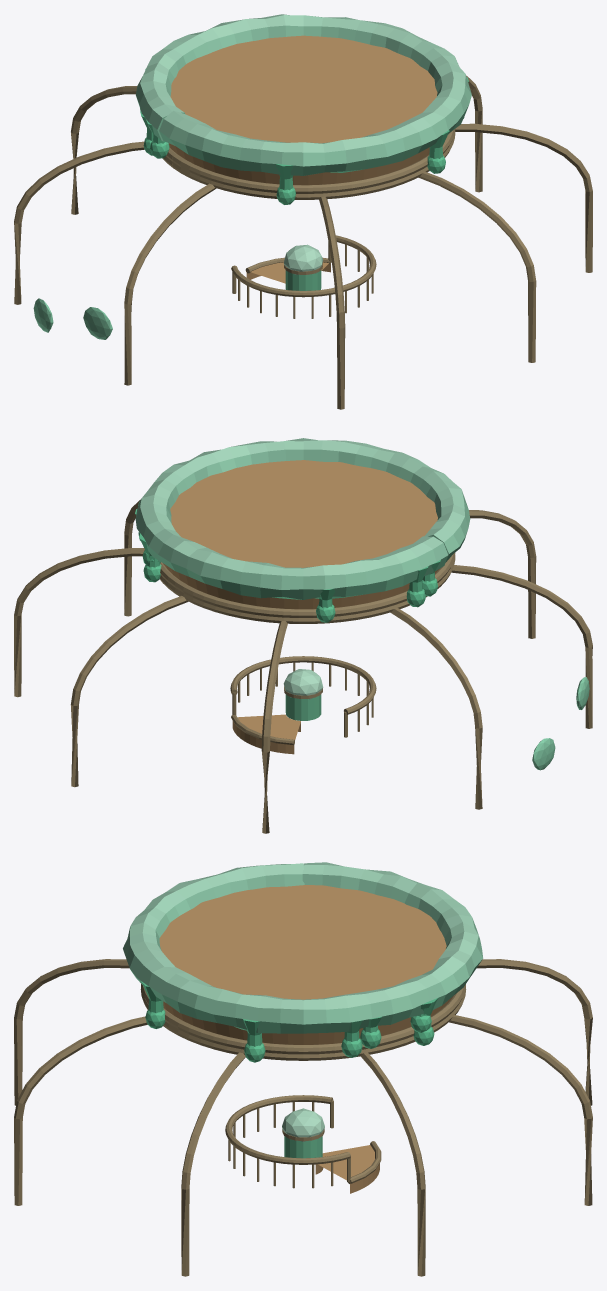
Rendered from goo_jar_trim_3_top.fbx.
3 renders of one model, top to bottom at view 1: azimuth 30°, elevation 25°; view 2: azimuth 150°, elevation 25°; view 3: azimuth 270°, elevation 25°, orthographic. The views are drawn at different scales.
Parts seen in each view (by area): view 1: goo_jar_trim_3_top; view 2: goo_jar_trim_3_top; view 3: goo_jar_trim_3_top.
Part boxes in pixels (x1,y1,x2,y2): goo_jar_trim_3_top: (14, 14, 592, 409); goo_jar_trim_3_top: (14, 438, 592, 833); goo_jar_trim_3_top: (14, 862, 592, 1276).
Size of the model in its own units: 47.31 by 20.61 by 45.37.
